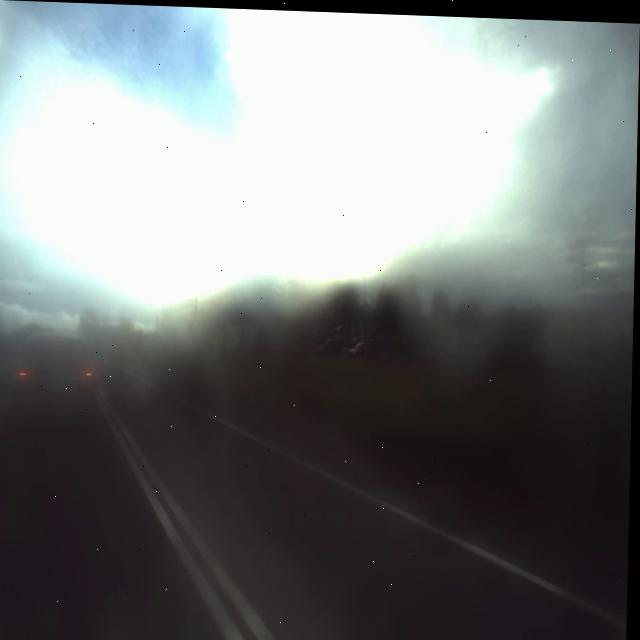car: (9, 322, 106, 435)
